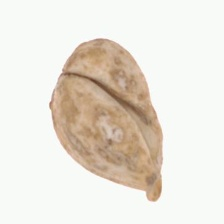L1: (48, 44, 74, 103), (138, 169, 163, 203)
L2: (49, 36, 164, 202)
